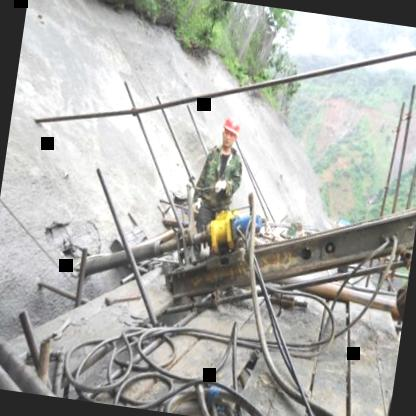helmet: (218, 112, 240, 149)
